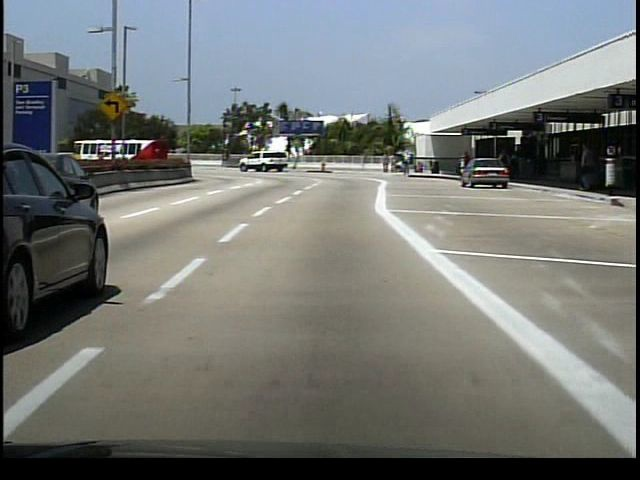person: (576, 140, 599, 196), (497, 146, 513, 184), (461, 151, 476, 184), (403, 148, 413, 178), (388, 152, 396, 176), (383, 150, 391, 174)
